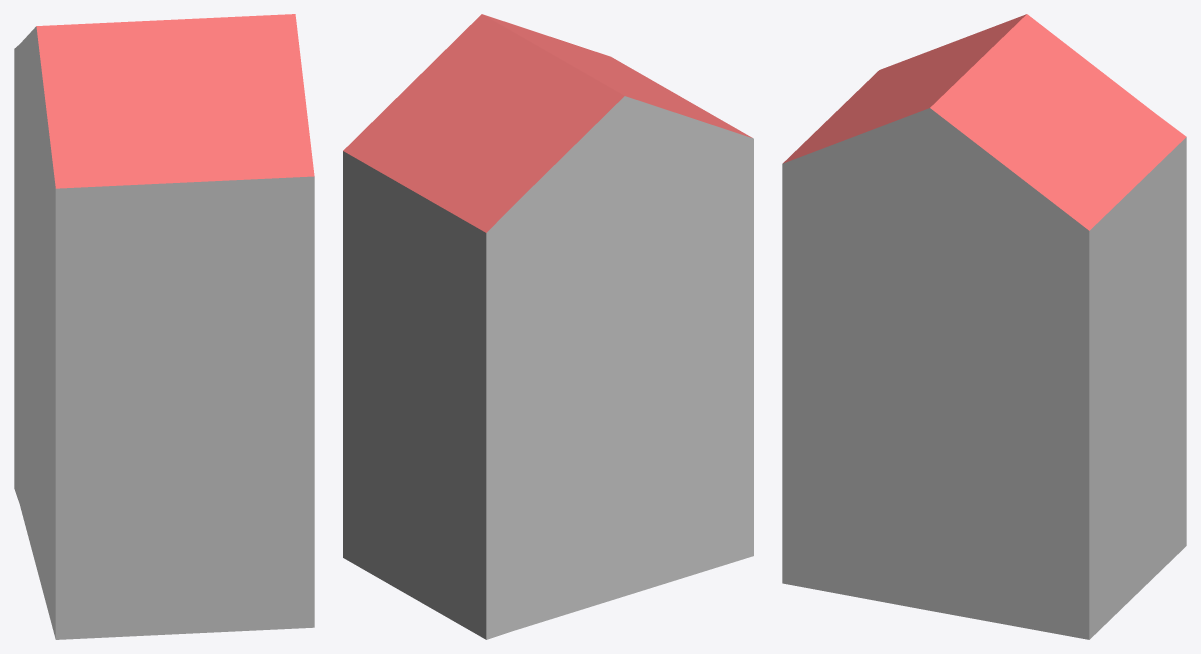
The model's file is DEBY_LOD2_4907026.gltf.
The picture shows the model from 3 angles, left to right: view 1: azimuth 30°, elevation 25°; view 2: azimuth 150°, elevation 25°; view 3: azimuth 270°, elevation 25°; orthographic projection. The views are drawn at different scales.
Visible parts, largest first — view 1: Z_UP; view 2: Z_UP; view 3: Z_UP.
Boxes of the visible parts, <box> form: Z_UP: <box>14,14,314,639</box>; Z_UP: <box>343,14,753,639</box>; Z_UP: <box>782,14,1186,639</box>.
Bounding box in the file's own units: 14.38 × 22.44 × 16.35.
